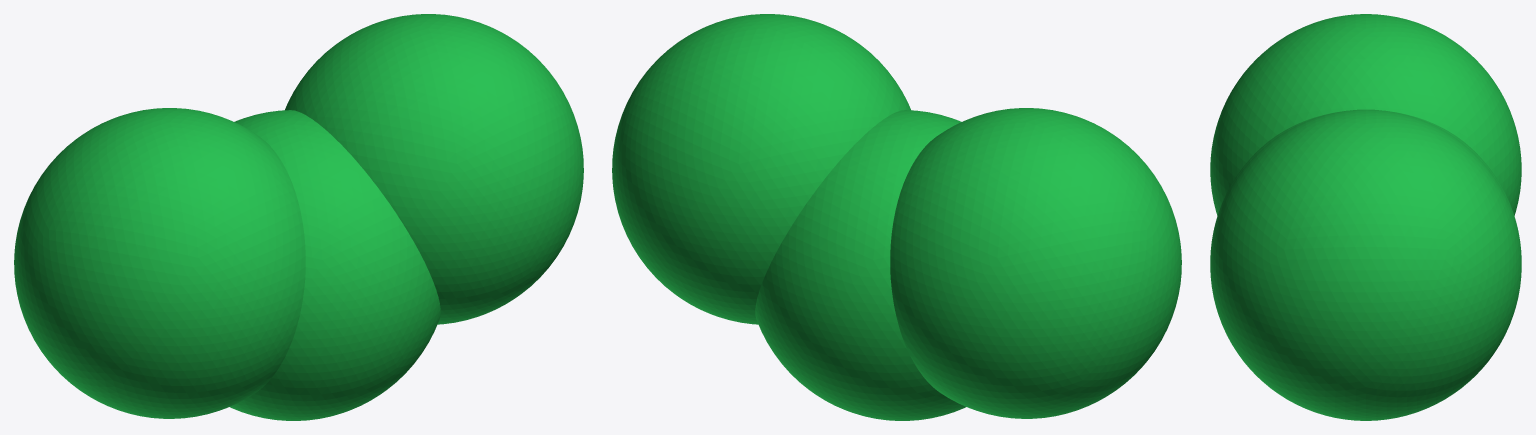
File: hill.glb
The picture shows the model from 3 angles, left to right: view 1: azimuth 30°, elevation 25°; view 2: azimuth 150°, elevation 25°; view 3: azimuth 270°, elevation 25°; orthographic projection.
Bounding box in the file's own units: 0.0784 × 0.049 × 0.04.
